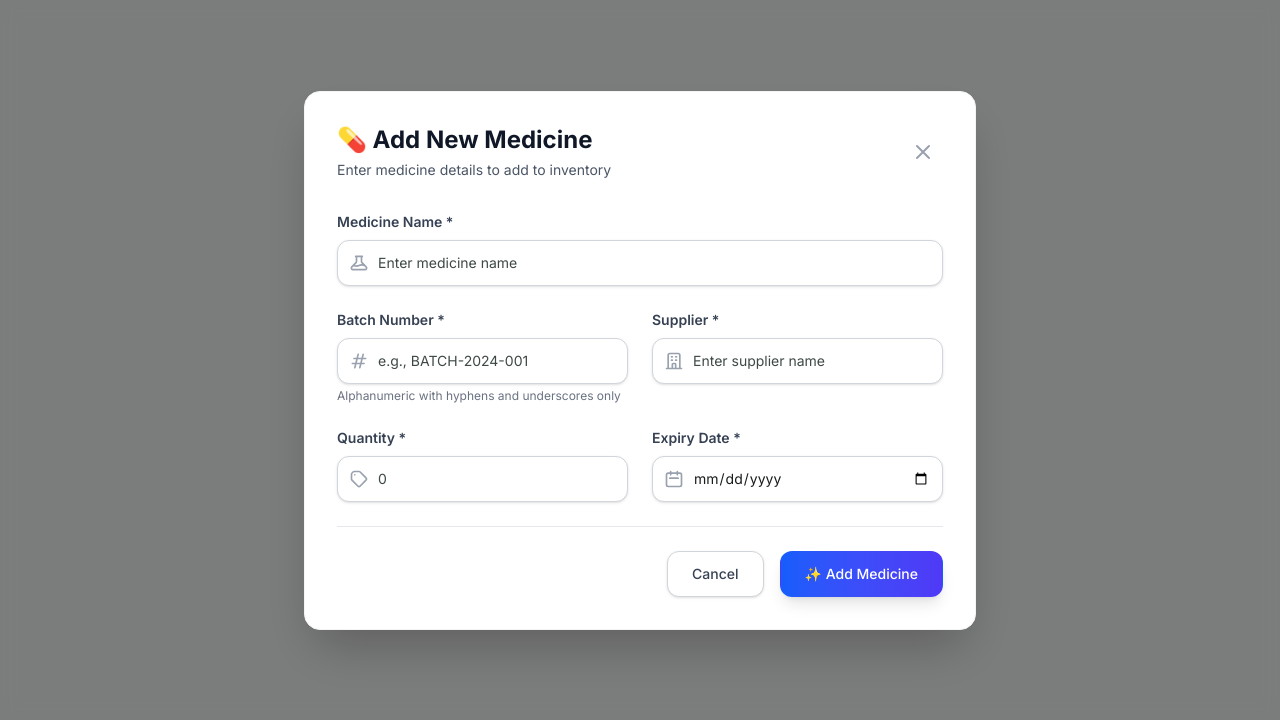
MedicineForm › Validation › should show error when batch number is empty
The width and height of the screenshot is (1280, 720).
In the field labelled "Medicine Name *": x=640, y=262 [337,240,943,286], type "Test Medicine"
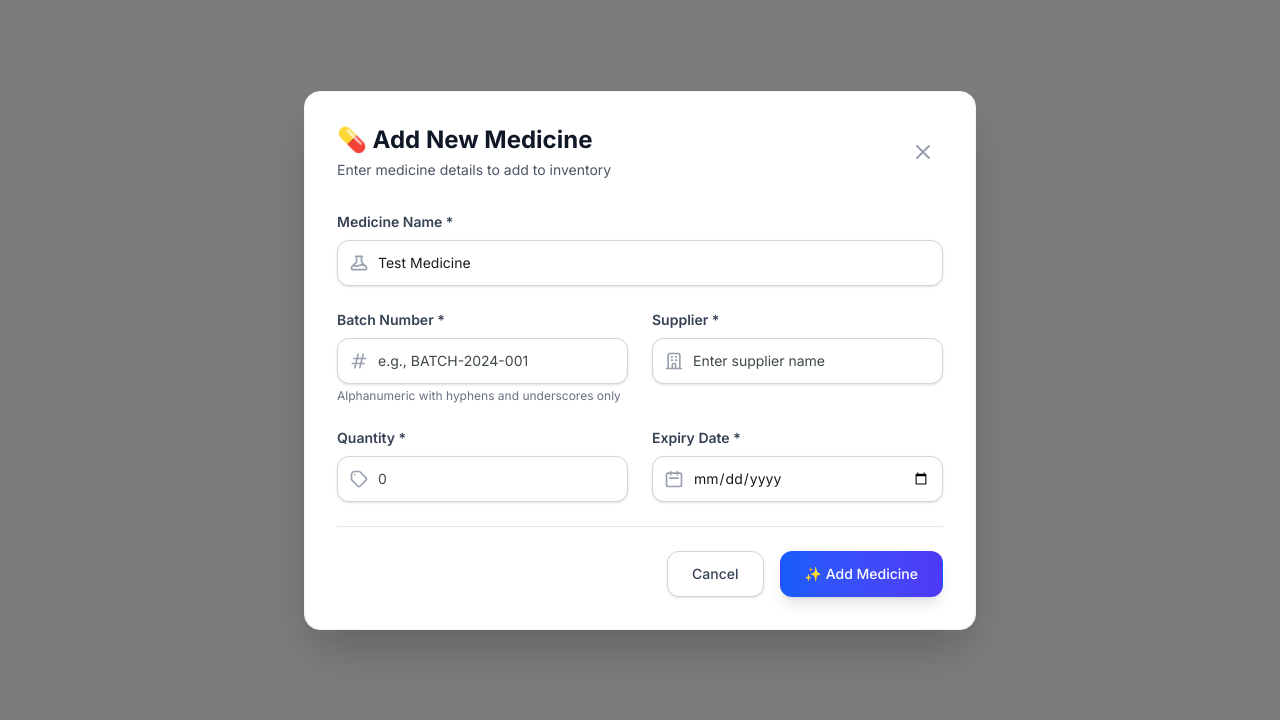
Click the button "✨ Add Medicine": x=861, y=574 [780,550,943,596]
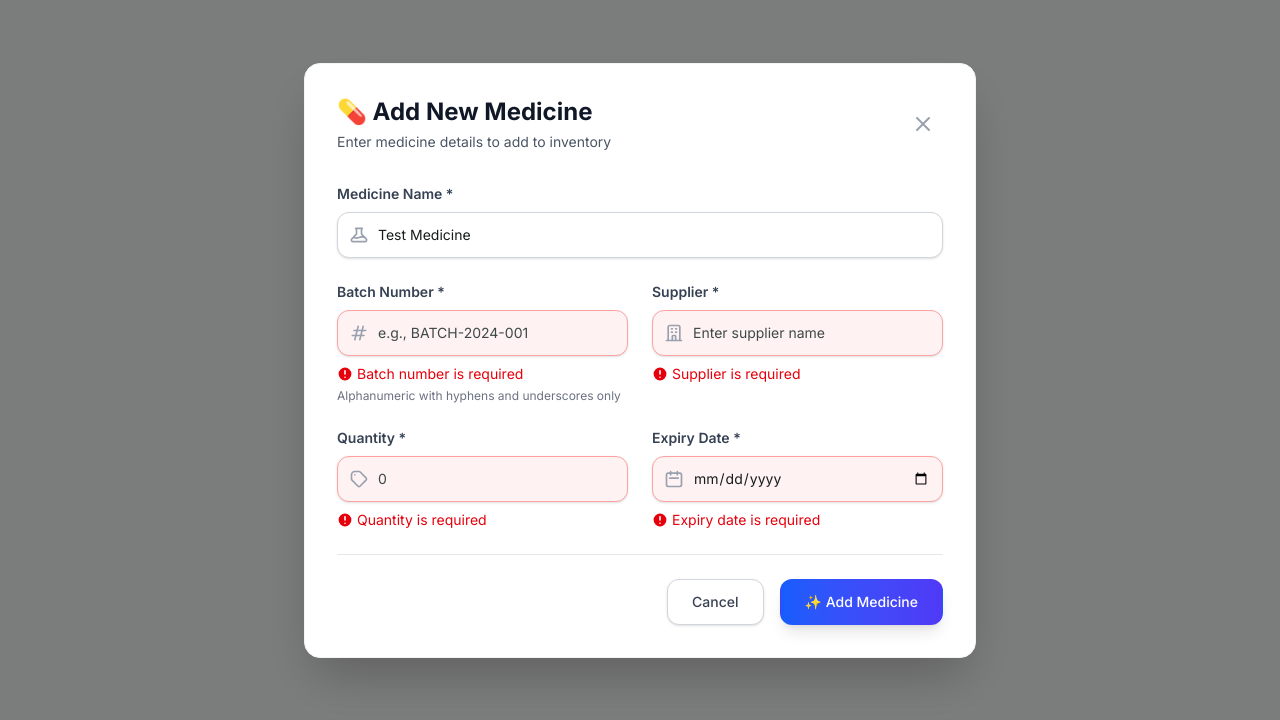
Expected: the text "Batch number is required" is shown, [337,364,523,382]
